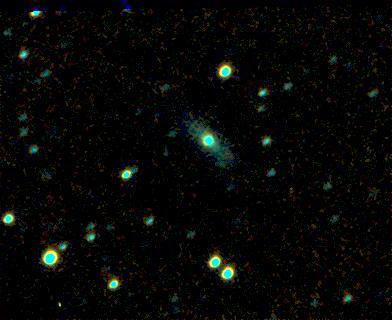star: (41, 282, 71, 312)
